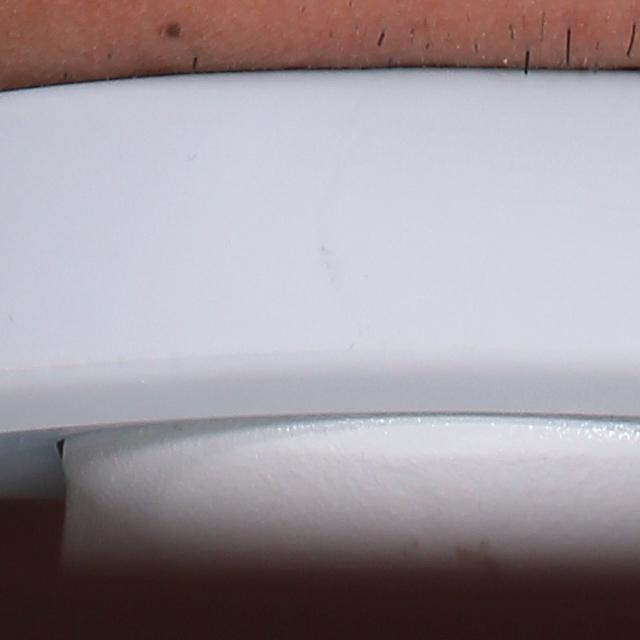nevus: (160, 13, 187, 42)
